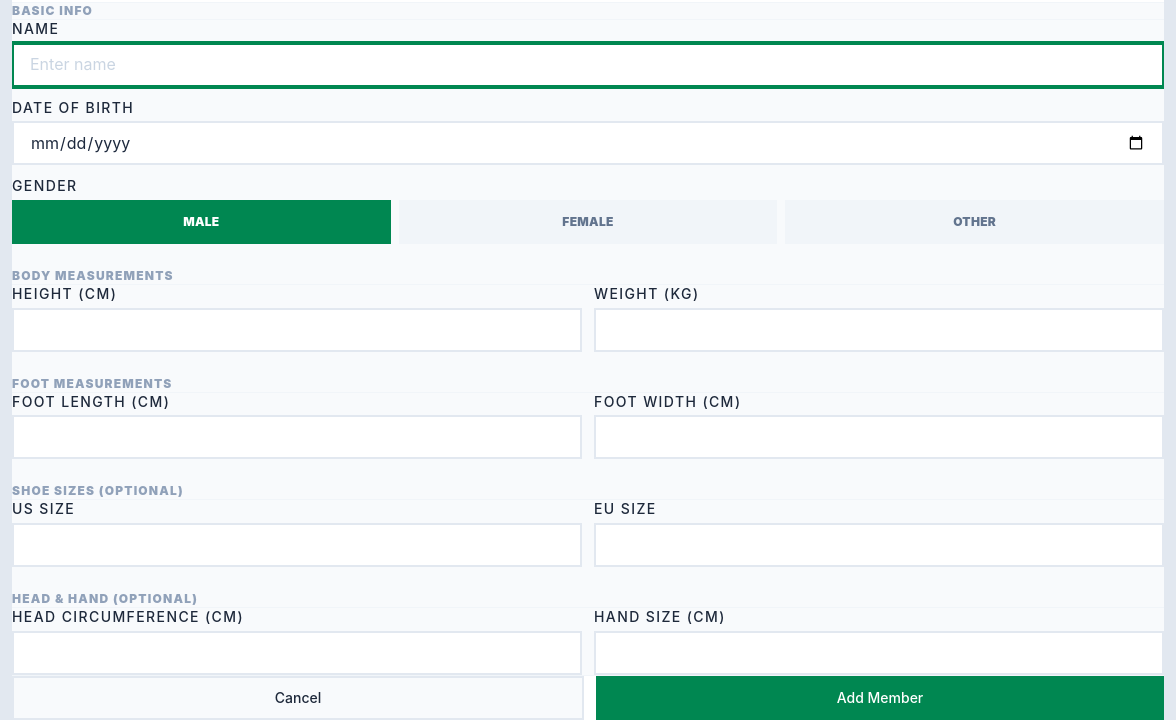
Test case: MemberForm › validation › shows error when name is empty
This screenshot has width=1176, height=720.
(page scrolled)
Click the button "Add Member": [880, 698] box [596, 676, 1164, 719]
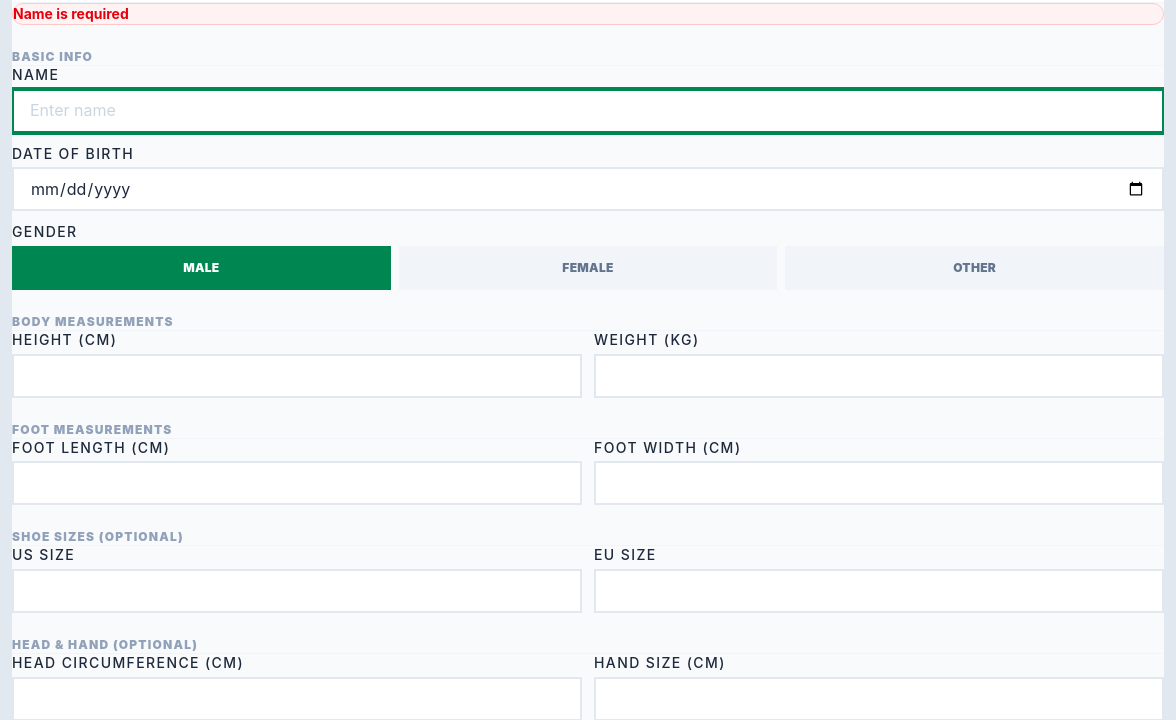
expect the text "Name is required" is shown: met, box [12, 3, 1164, 25]
